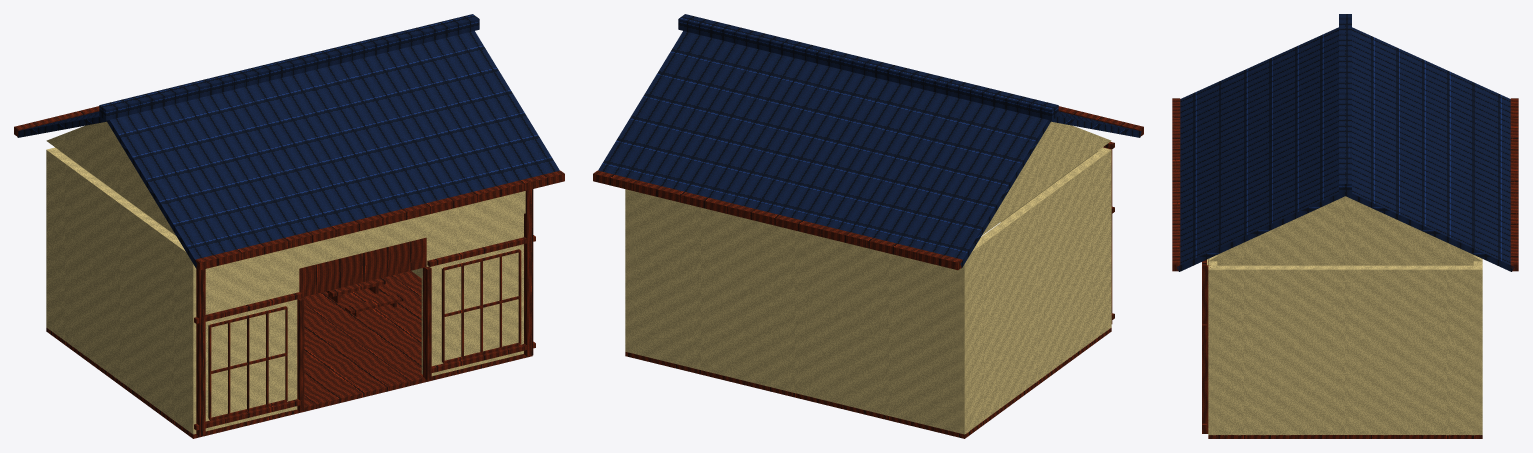
The model's file is open_teahouse.glb.
The picture shows the model from 3 angles, left to right: view 1: azimuth 30°, elevation 25°; view 2: azimuth 150°, elevation 25°; view 3: azimuth 270°, elevation 25°; orthographic projection. The views are drawn at different scales.
Parts seen in each view (by area): view 1: Body, Roof; view 2: Body, Roof; view 3: Roof, Body.
Boxes of the visible parts, x1,y1,x2,y2 form: Body: (46, 147, 535, 438); Roof: (14, 14, 564, 270); Body: (625, 142, 1114, 438); Roof: (593, 14, 1143, 270); Roof: (1172, 14, 1518, 271); Body: (1202, 249, 1482, 438).
Size of the model in its own units: 8.8 by 6.34 by 7.58.
6 materials, 6 textured.
